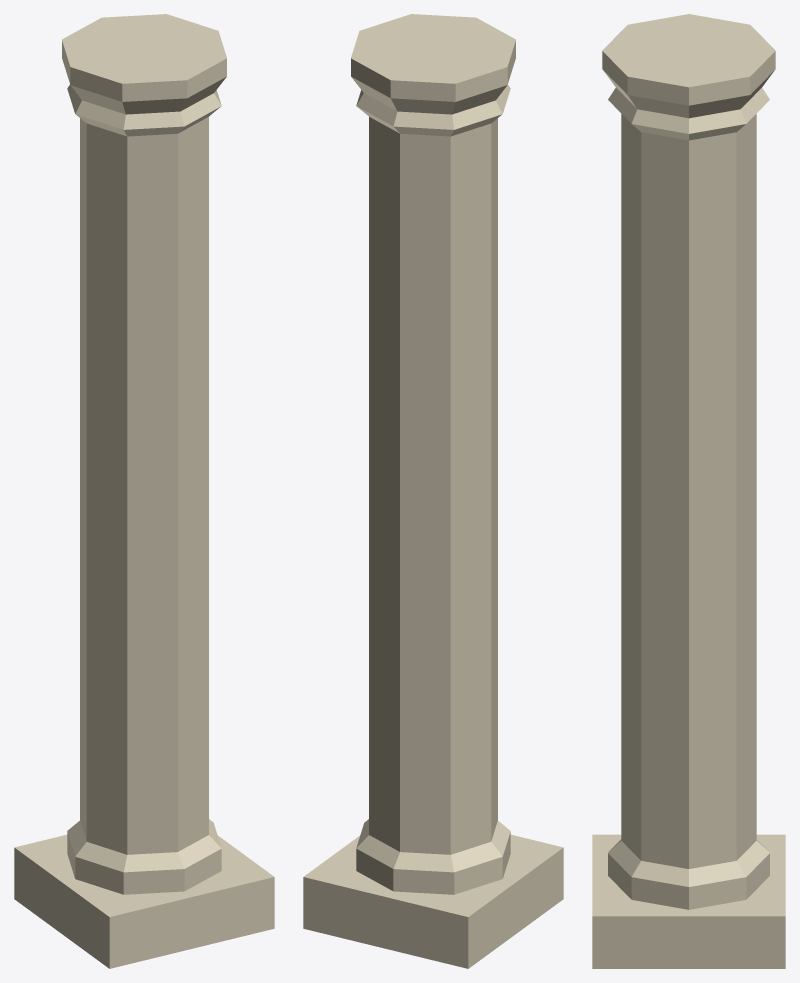
The model's file is roman_column_tall.fbx.
3 views of the same model, side by side, from view 1: azimuth 30°, elevation 25°; view 2: azimuth 150°, elevation 25°; view 3: azimuth 270°, elevation 25° (orthographic).
Parts seen in each view (by area): view 1: Cylinder.011; view 2: Cylinder.011; view 3: Cylinder.011.
Part boxes in pixels (bbox=[...]): Cylinder.011: bbox=[14, 14, 274, 968]; Cylinder.011: bbox=[303, 14, 563, 968]; Cylinder.011: bbox=[592, 14, 785, 968].
Size of the model in its own units: 100 by 501 by 100.
